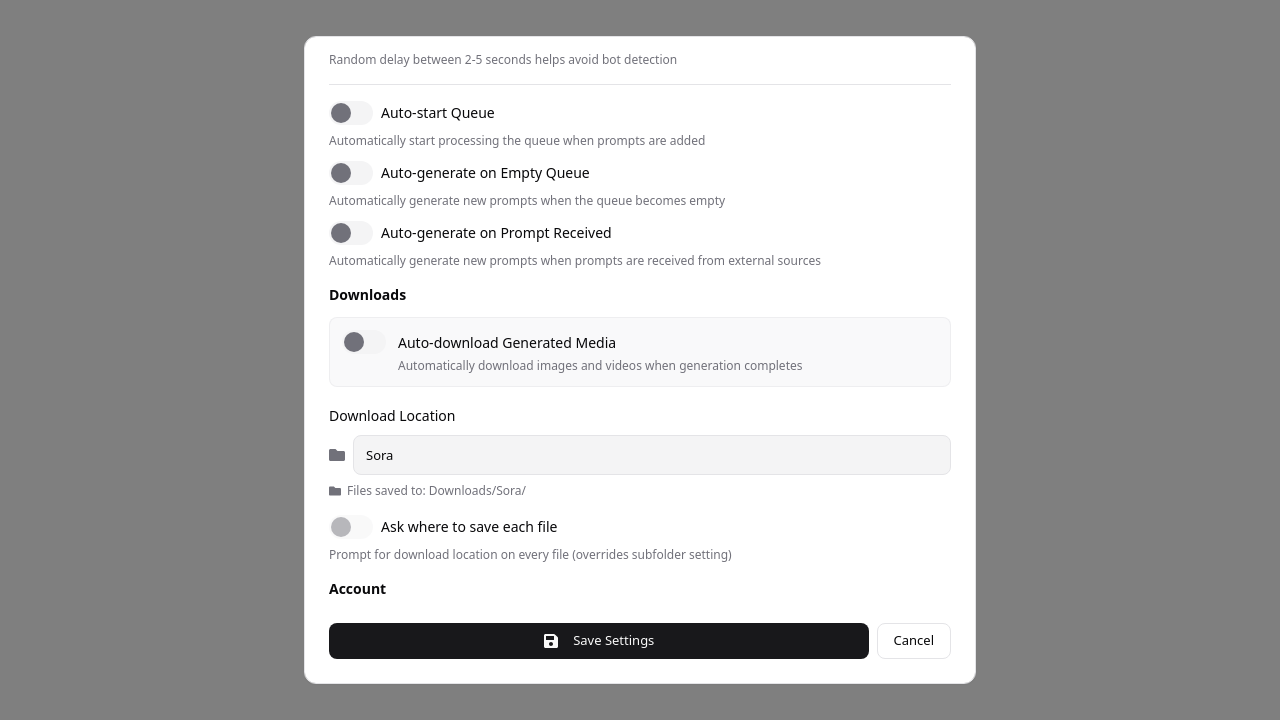
SettingsDialog › should disable all inputs when loading
This screenshot has width=1280, height=720.
(page scrolled)
Click the button "Save Settings" at (599, 641), box [329, 623, 868, 659]
(page scrolled)
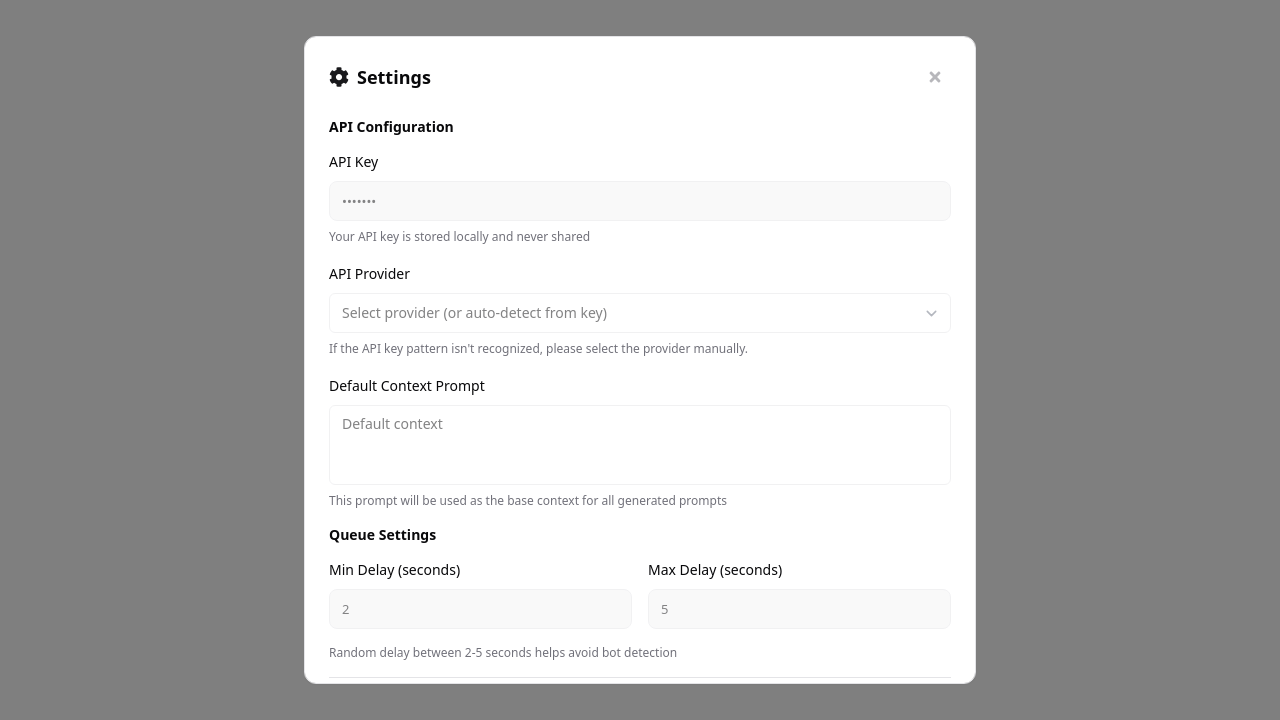
Expected: the password field labelled "API Key" is disabled, [329, 181, 951, 221]
